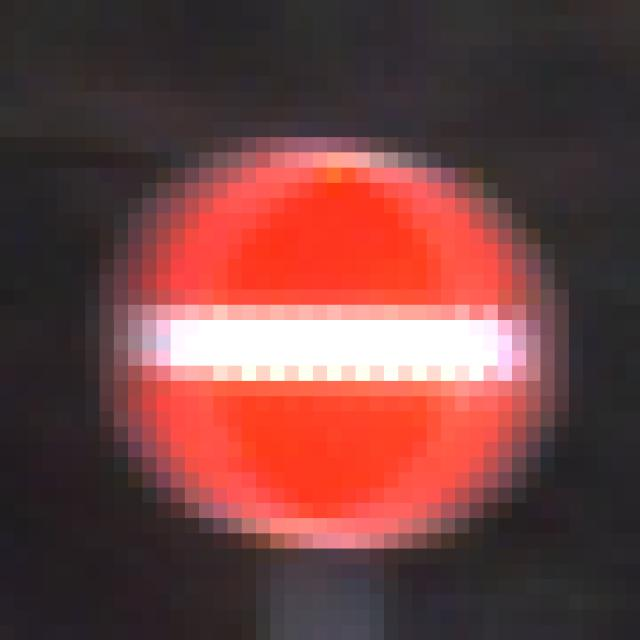No Entry: (86, 92, 570, 565)
